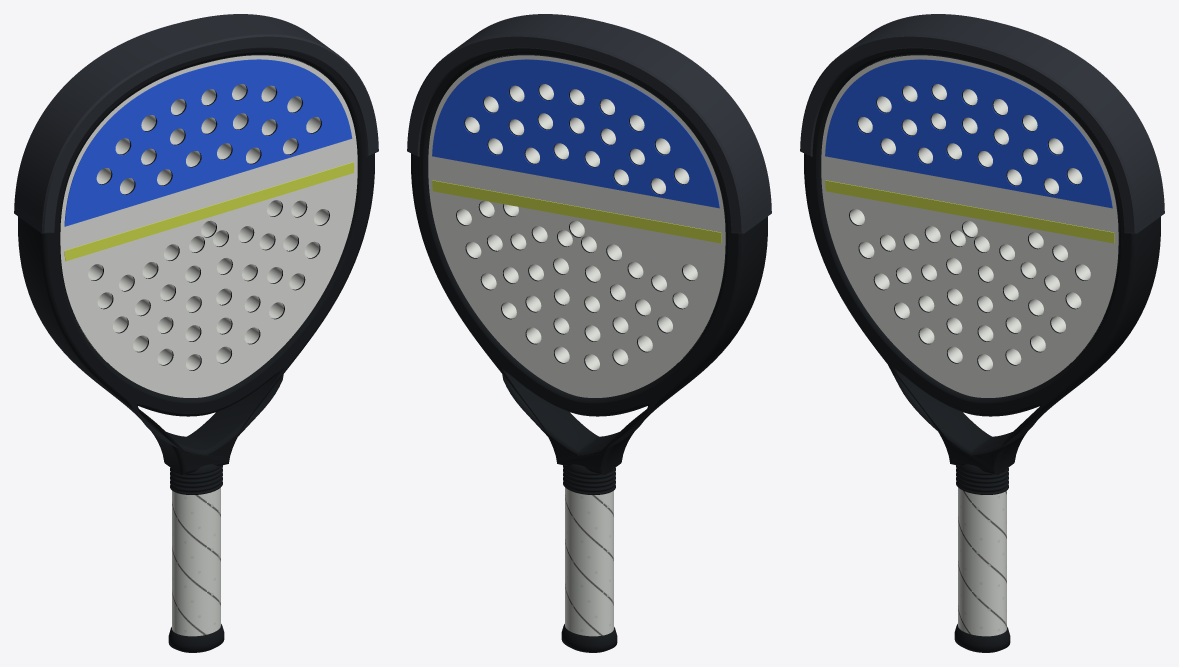
Rendered from nox-at10-luxury-genius-18k-alum.glb.
3 renders of one model, left to right at view 1: azimuth 30°, elevation 25°; view 2: azimuth 150°, elevation 25°; view 3: azimuth 330°, elevation 25°, orthographic.
Visible parts, largest first — view 1: part_face_front, part_print, part_frame, part_bumper, part_core, part_grip, part_collar, part_cap; view 2: part_face_back, part_print, part_frame, part_bumper, part_core, part_grip, part_collar, part_cap; view 3: part_face_front, part_print, part_frame, part_bumper, part_core, part_grip, part_collar, part_cap.
Boxes of the visible parts, <box> form: part_face_front: <box>60,54,357,397</box>; part_print: <box>64,59,354,261</box>; part_frame: <box>18,48,374,474</box>; part_bumper: <box>14,14,378,233</box>; part_core: <box>80,56,328,370</box>; part_grip: <box>172,487,220,636</box>; part_collar: <box>170,464,222,494</box>; part_cap: <box>168,624,224,652</box>; part_face_back: <box>428,54,725,397</box>; part_print: <box>432,59,721,243</box>; part_frame: <box>411,48,767,474</box>; part_bumper: <box>407,14,771,233</box>; part_core: <box>457,56,705,370</box>; part_grip: <box>565,487,613,636</box>; part_collar: <box>563,464,615,494</box>; part_cap: <box>561,624,617,652</box>; part_face_front: <box>821,54,1118,397</box>; part_print: <box>825,59,1114,243</box>; part_frame: <box>804,48,1160,474</box>; part_bumper: <box>800,14,1164,233</box>; part_core: <box>850,56,1098,370</box>; part_grip: <box>958,487,1006,636</box>; part_collar: <box>956,464,1008,494</box>; part_cap: <box>954,624,1010,652</box>.
Bounding box in the file's own units: 0.2631 × 0.4566 × 0.0404.
Materials: 11 (1 with a texture image).
